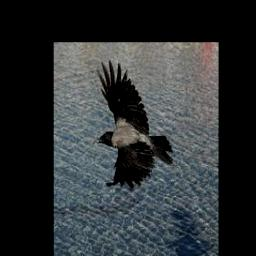Crow: (95, 59, 173, 188)
